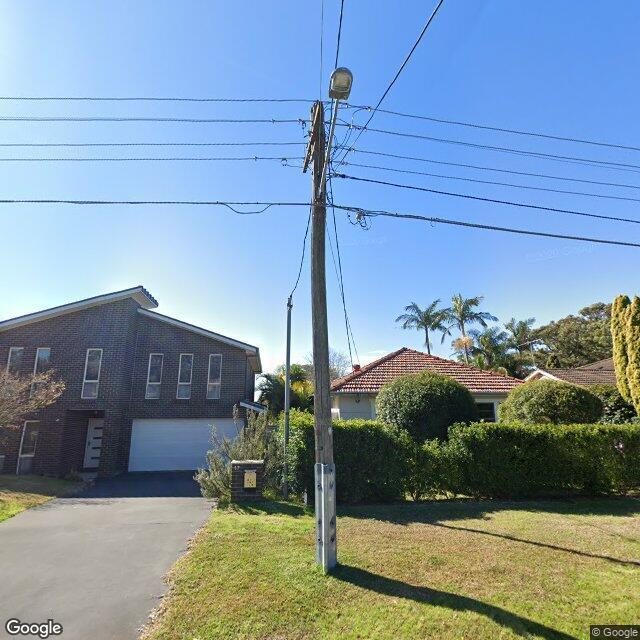crossarm: (302, 100, 322, 174)
steel-pole: (283, 297, 292, 501)
streetlight: (316, 67, 353, 200)
timber-pole: (310, 101, 337, 574)
